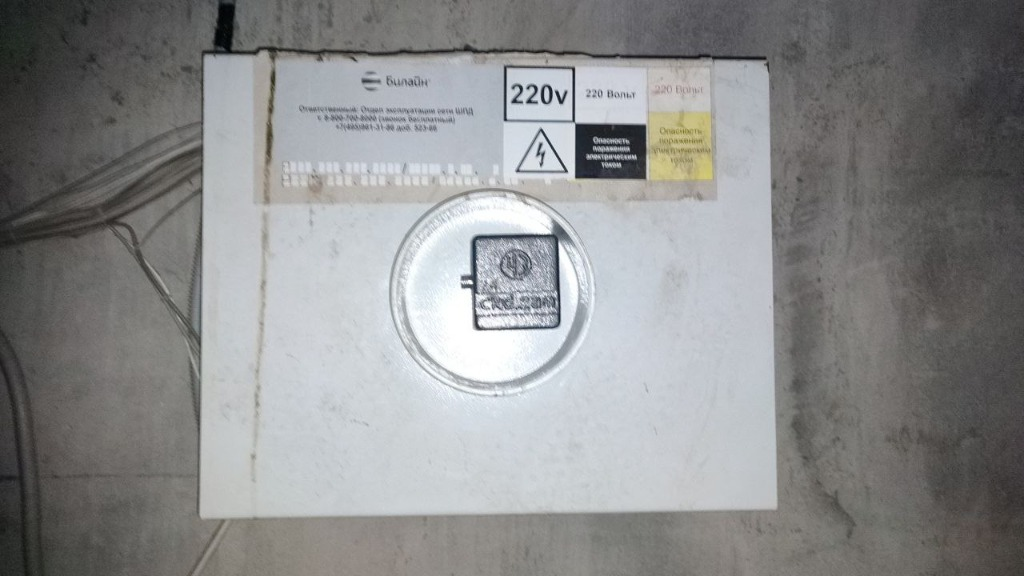shta-3: (196, 48, 780, 520)
